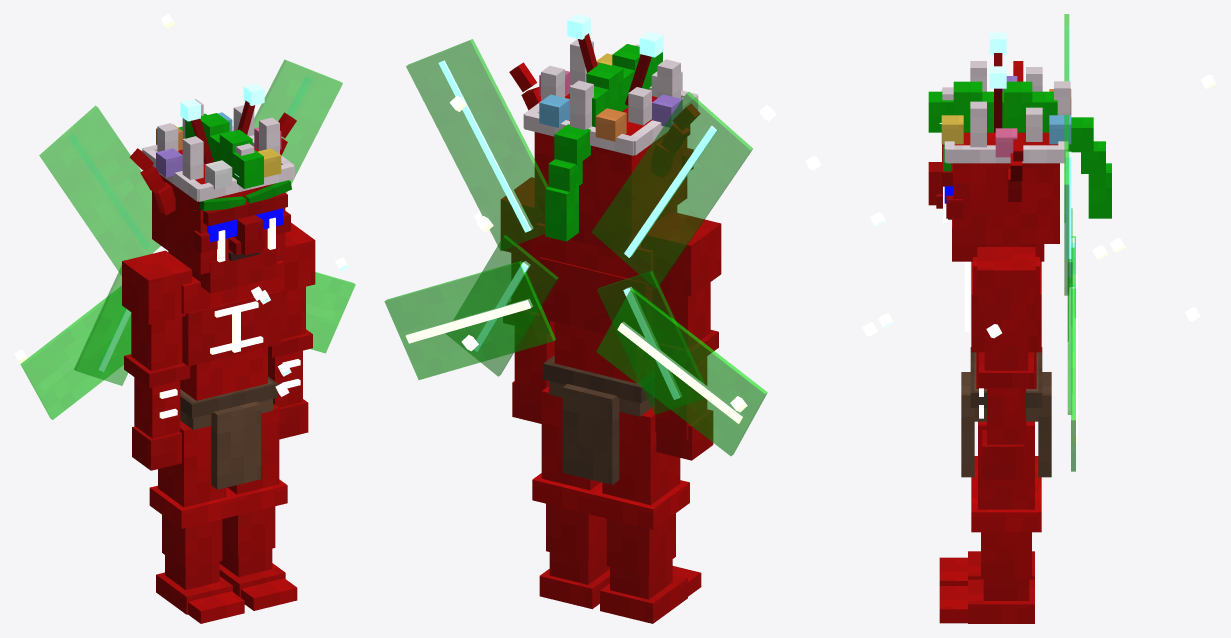
The model's file is fairy_s2_evo2.glb.
3 renders of one model, left to right at view 1: azimuth 30°, elevation 25°; view 2: azimuth 150°, elevation 25°; view 3: azimuth 270°, elevation 25°, orthographic. The views are drawn at different scales.
Parts seen in each view (by area): view 1: Torso, Head, ArmR, LegR, LegL, ArmL; view 2: Torso, Head, LegR, ArmR, LegL, ArmL; view 3: Head, Torso, ArmL, LegL, LegR.
Boxes of the visible parts, bbox=[...] form: Torso: bbox=[14, 14, 355, 489]; Head: bbox=[129, 83, 296, 293]; ArmR: bbox=[122, 250, 192, 470]; LegR: bbox=[149, 421, 244, 623]; LegL: bbox=[219, 403, 297, 610]; ArmL: bbox=[268, 222, 315, 439]; Torso: bbox=[384, 39, 776, 484]; Head: bbox=[509, 14, 700, 252]; LegR: bbox=[592, 406, 701, 623]; ArmR: bbox=[641, 211, 721, 460]; LegL: bbox=[532, 386, 609, 609]; ArmL: bbox=[500, 177, 554, 423]; Head: bbox=[928, 32, 1111, 261]; Torso: bbox=[805, 14, 1216, 477]; ArmL: bbox=[977, 247, 1035, 479]; LegL: bbox=[939, 421, 1041, 623]; LegR: bbox=[939, 456, 1041, 585].
Size of the model in its own units: 0.7806 by 1.11 by 0.7622.
Materials: 34 (34 with a texture image).
